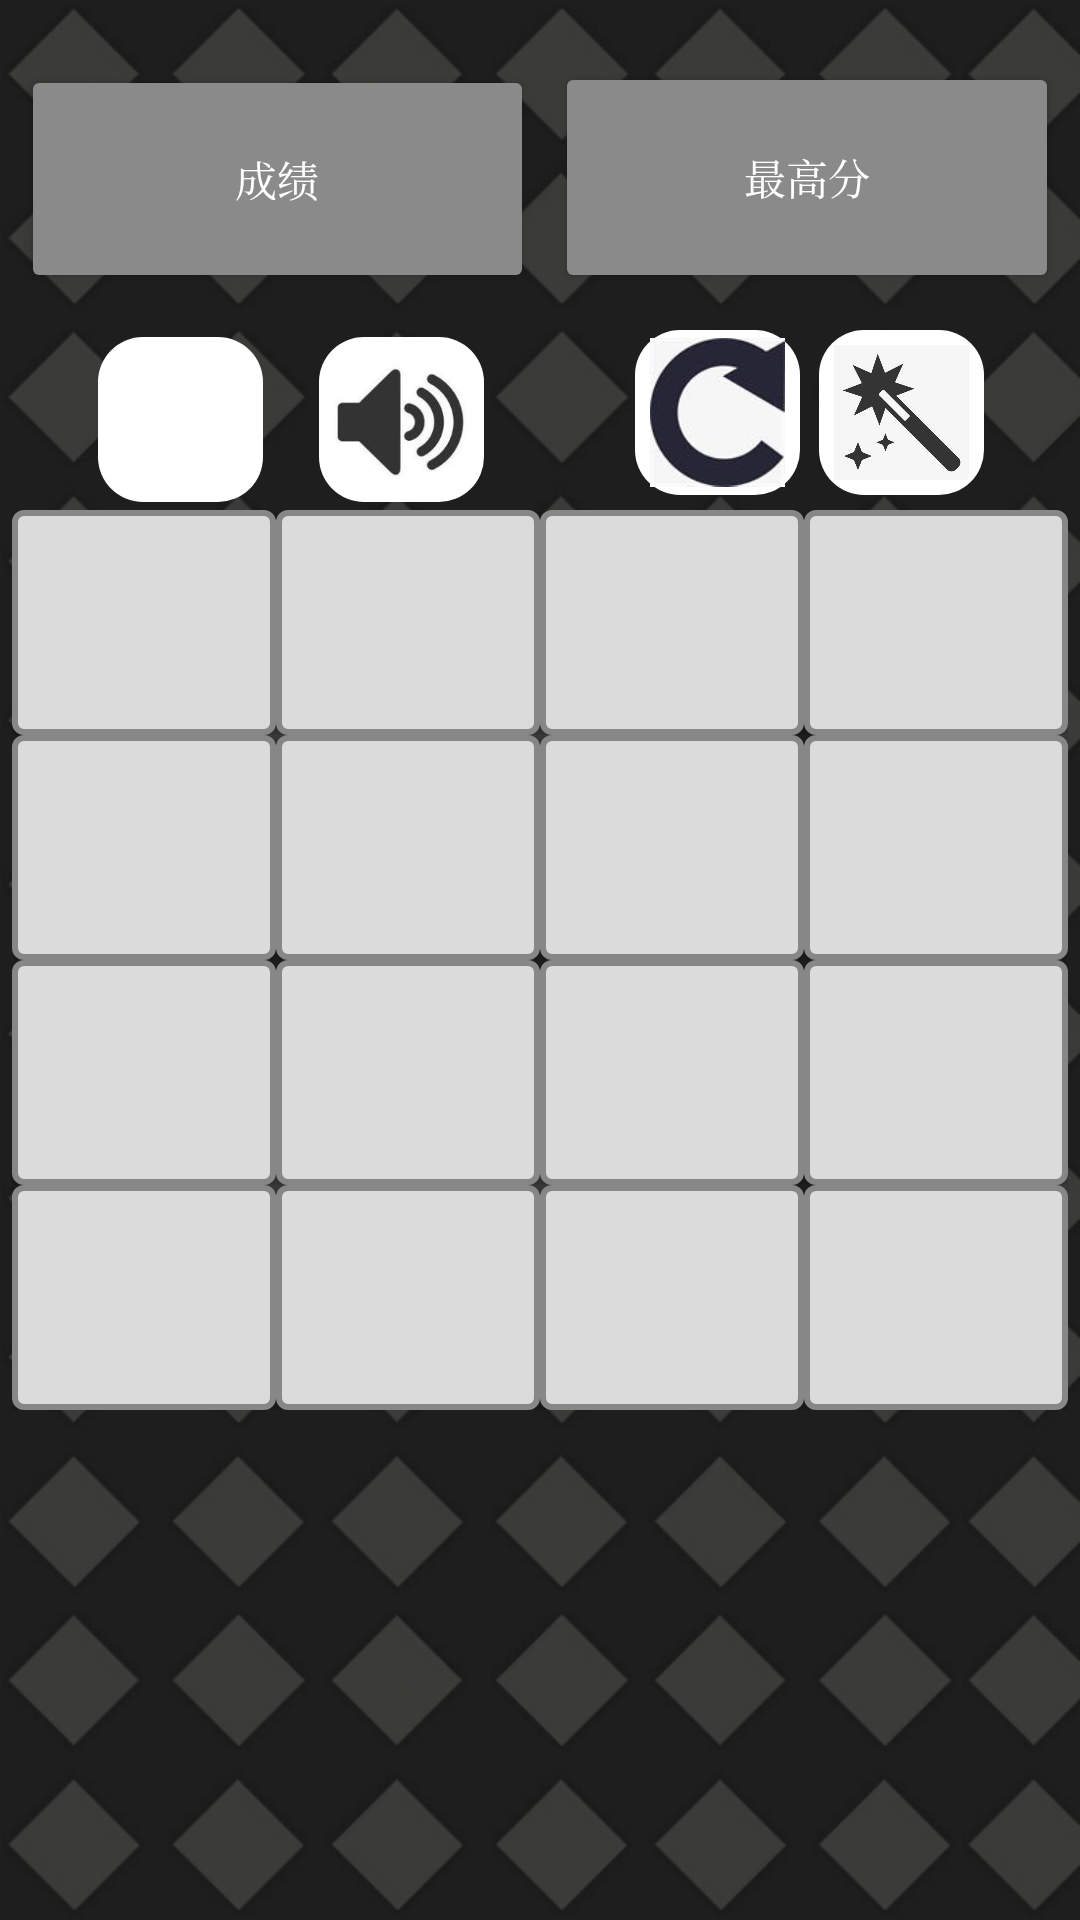

Icon click points for this 1080px x 1920px phone screenshot, format point (x, y):
sound: point (401, 419)
